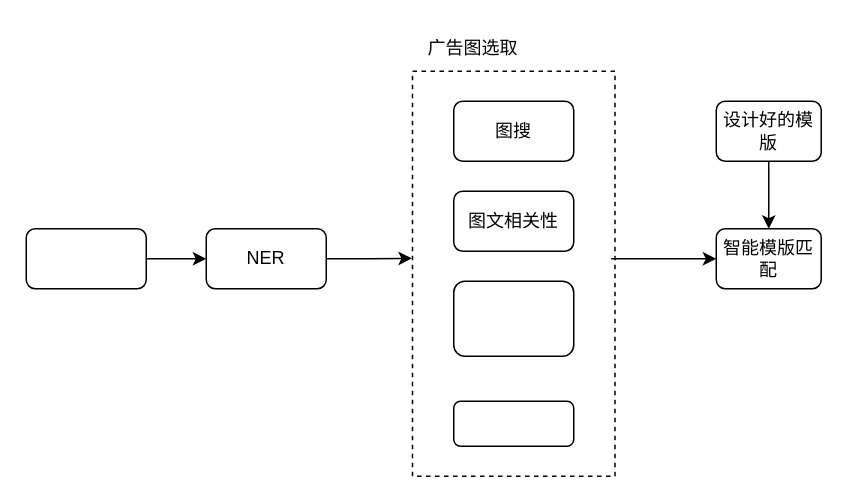
Image size: 848x503. Some labels were removed from this diagram. Each missing label, with the centre of its shape:
OCR: [513,423]
query: [85,258]
图片质量过滤（清晰度/美观度）: [513,318]
